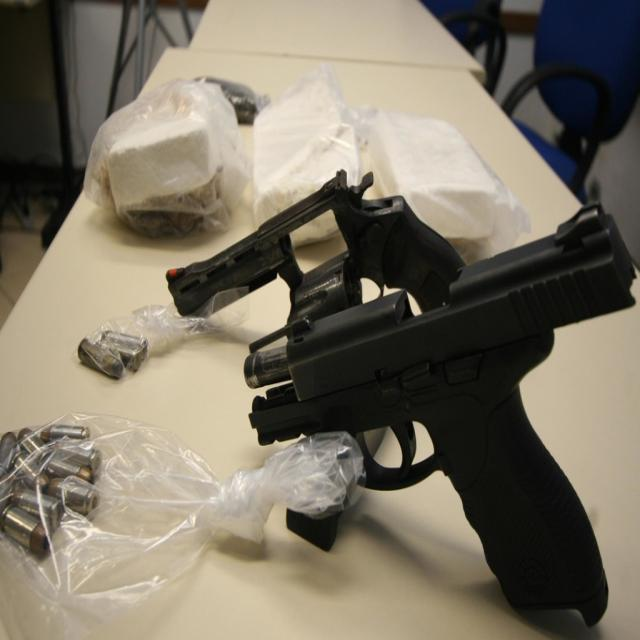Gun: (168, 172, 635, 621), (245, 209, 634, 608)
